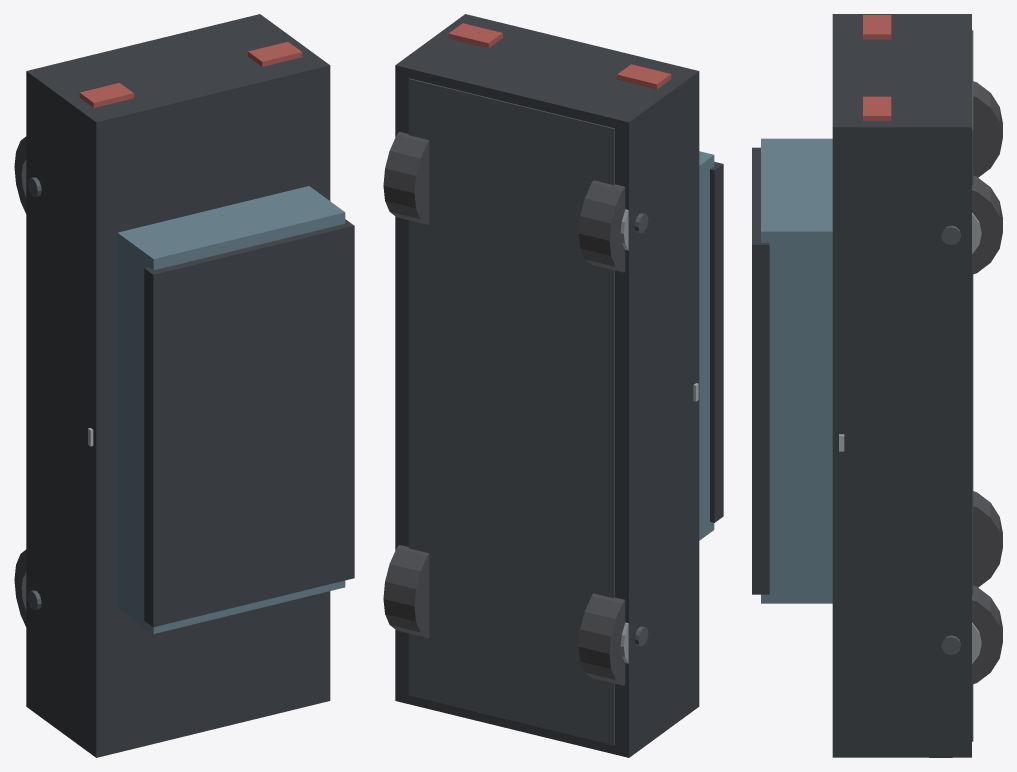
The model's file is luxury_sedan.glb.
3 renders of one model, left to right at view 1: azimuth 30°, elevation 25°; view 2: azimuth 150°, elevation 25°; view 3: azimuth 270°, elevation 25°, orthographic.
Parts seen in each view (by area): view 1: 0000_Car_body, 0003_Roof, 0002_Cabin_glass, 0009_Tail_lamp, 0007_Tail_lamp, 0012_Wheel_tire, 0018_Wheel_tire; view 2: 0001_Chassis_black, 0000_Car_body, 0003_Roof, 0002_Cabin_glass, 0015_Wheel_tire, 0021_Wheel_tire, 0012_Wheel_tire, 0018_Wheel_tire, 0007_Tail_lamp, 0009_Tail_lamp; view 3: 0000_Car_body, 0002_Cabin_glass, 0003_Roof, 0012_Wheel_tire, 0018_Wheel_tire, 0021_Wheel_tire, 0015_Wheel_tire, 0001_Chassis_black, 0007_Tail_lamp, 0009_Tail_lamp.
Boxes of the visible parts, bbox=[...] form: 0000_Car_body: bbox=[26, 14, 330, 757]; 0003_Roof: bbox=[144, 219, 354, 627]; 0002_Cabin_glass: bbox=[117, 186, 345, 633]; 0009_Tail_lamp: bbox=[248, 42, 302, 66]; 0007_Tail_lamp: bbox=[79, 83, 133, 107]; 0012_Wheel_tire: bbox=[14, 549, 26, 626]; 0018_Wheel_tire: bbox=[14, 136, 26, 213]; 0001_Chassis_black: bbox=[408, 78, 614, 745]; 0000_Car_body: bbox=[395, 14, 699, 757]; 0003_Roof: bbox=[710, 162, 723, 522]; 0002_Cabin_glass: bbox=[699, 151, 714, 540]; 0015_Wheel_tire: bbox=[383, 545, 429, 637]; 0021_Wheel_tire: bbox=[383, 131, 429, 224]; 0012_Wheel_tire: bbox=[578, 593, 625, 685]; 0018_Wheel_tire: bbox=[578, 180, 625, 272]; 0007_Tail_lamp: bbox=[617, 64, 671, 89]; 0009_Tail_lamp: bbox=[448, 23, 502, 48]; 0000_Car_body: bbox=[832, 14, 971, 757]; 0002_Cabin_glass: bbox=[761, 138, 832, 603]; 0003_Roof: bbox=[752, 147, 769, 594]; 0012_Wheel_tire: bbox=[973, 491, 1002, 587]; 0018_Wheel_tire: bbox=[973, 81, 1002, 177]; 0021_Wheel_tire: bbox=[972, 175, 1002, 274]; 0015_Wheel_tire: bbox=[972, 585, 1002, 684]; 0001_Chassis_black: bbox=[972, 30, 973, 741]; 0007_Tail_lamp: bbox=[863, 15, 891, 39]; 0009_Tail_lamp: bbox=[863, 96, 891, 120].
Size of the model in its own units: 1.87 by 4.8 by 1.7.
